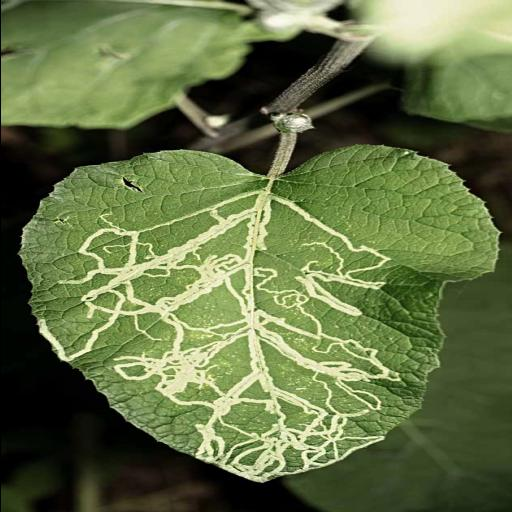Leaf Miner: (18, 145, 498, 483)
